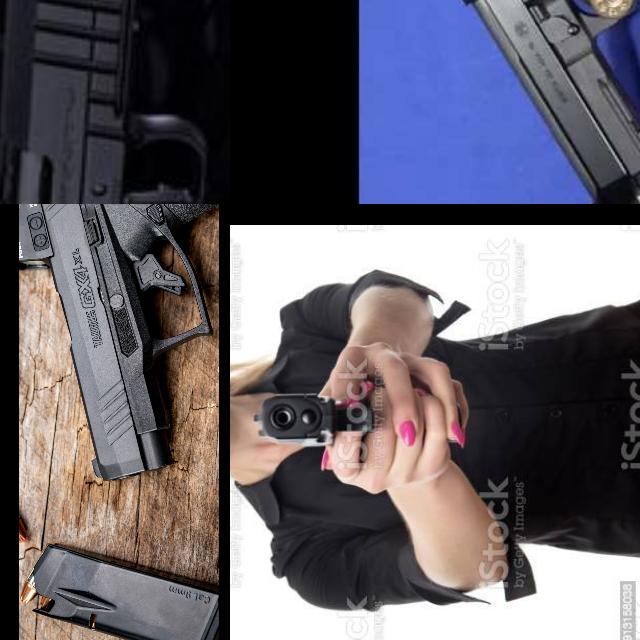handgun: (19, 204, 219, 484), (393, 0, 640, 204), (0, 0, 230, 204), (250, 386, 376, 452)
